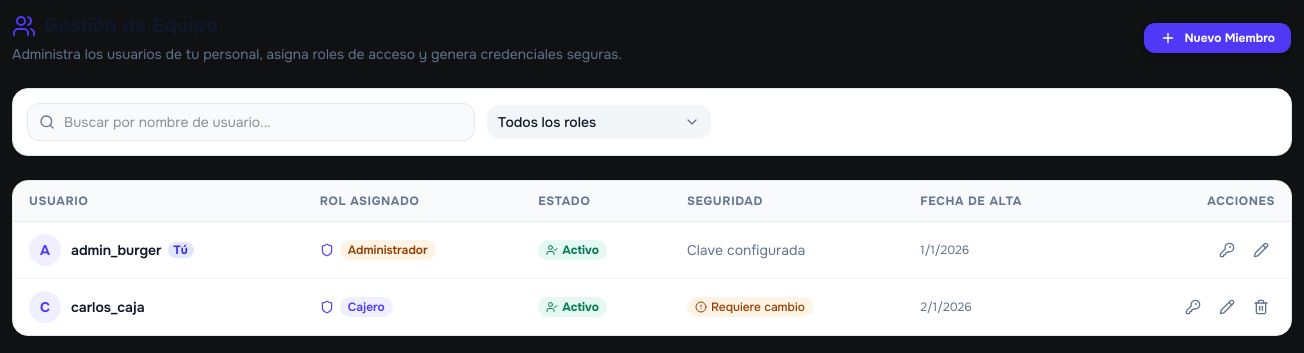
TeamManager Component (TDD) › filters the team by role using the modern select
Expected: the text "carlos_caja" is shown, [71, 297, 145, 317]
Click the button with test id "team-role-filter-trigger" at [599, 122], box [487, 105, 711, 139]
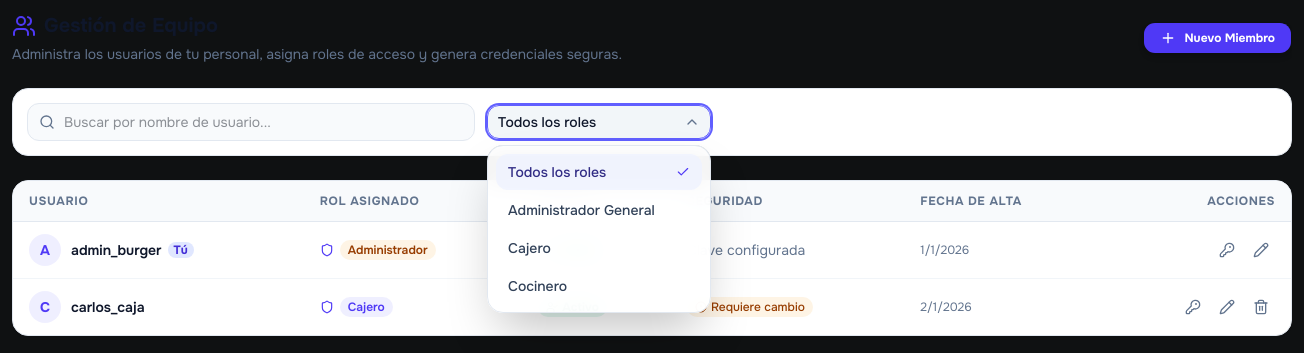
Expected: the element with test id "team-role-filter-menu" shows "Todos los roles", [496, 154, 702, 190]
Expected: the element with test id "team-role-filter-menu" shows "Administrador General"
Click the option "Administrador General" at [599, 210], box [496, 192, 702, 228]
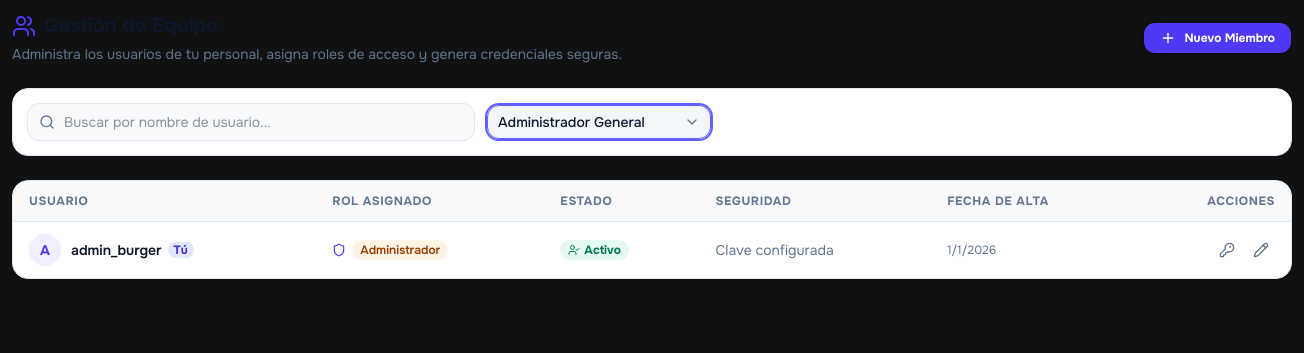
Expected: the text "admin_burger" is shown, [71, 240, 162, 260]
Expected: the text "carlos_caja" is gone
